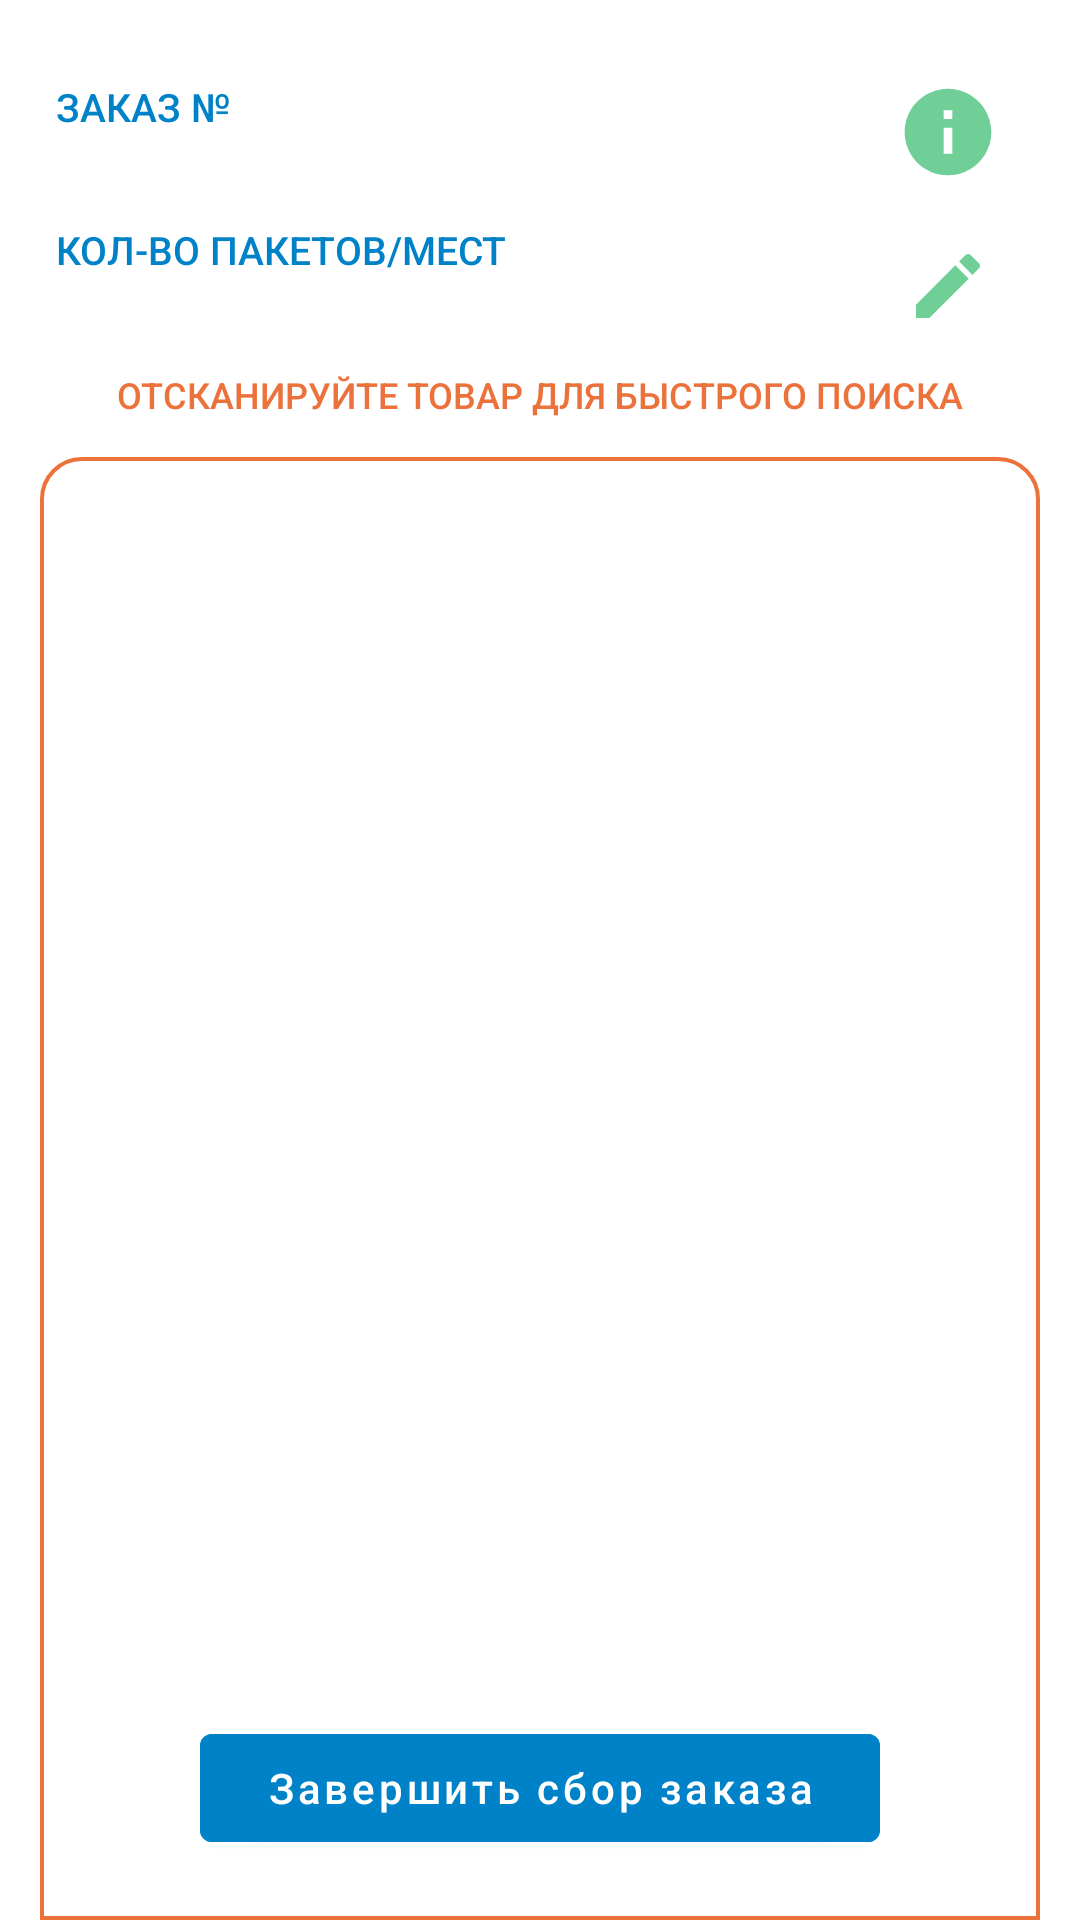

Icon bounding boxes for this 1080×1920 phone screenshot, format (x1, y1, x2, y2):
edit: (916, 254, 980, 318)
info: (904, 88, 992, 176)
